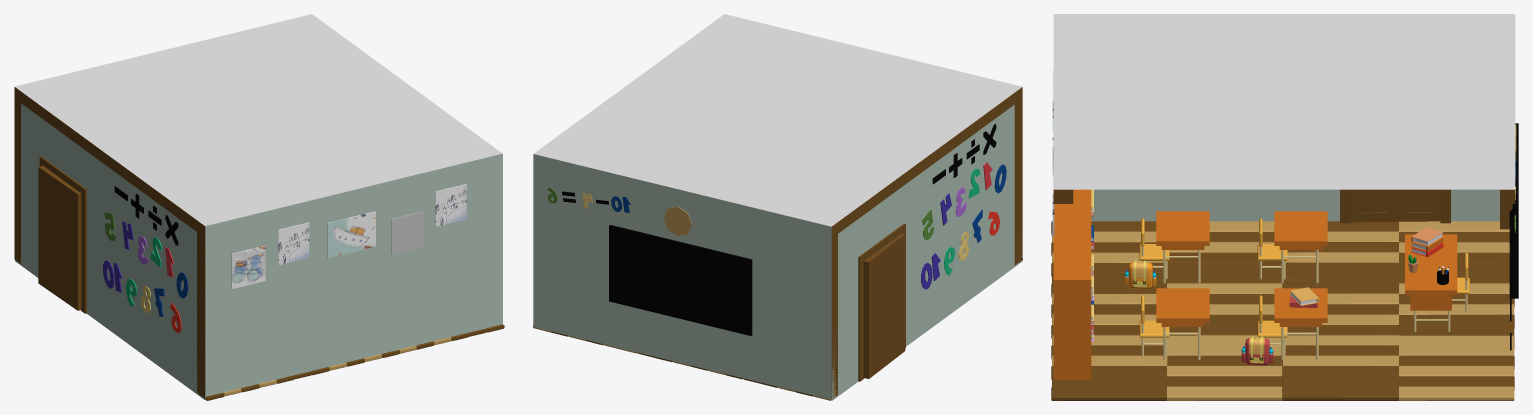
The model's file is Class.fbx.
The picture shows the model from 3 angles, left to right: view 1: azimuth 30°, elevation 25°; view 2: azimuth 150°, elevation 25°; view 3: azimuth 270°, elevation 25°; orthographic projection. The views are drawn at different scales.
Visible parts, largest first — view 1: plafond, wall_03, wall_01, door, ceiling, picture_03, floor, picture_05, picture_02, picture_04, picture_01, door_jamb; view 2: plafond, wall_02, wall_01, blackboard, door, ceiling, door_jamb, hour, floor; view 3: plafond, floor, wall_01, bookcase, table_01, door, table_05, table_02, table_04, table_03, blackboard, ceiling (+7 smaller).
Part boxes in pixels (x1,y1,x2,y2): plafond: (15,14,502,226); wall_03: (205,153,502,398); wall_01: (15,103,205,399); door: (38,165,81,310); ceiling: (14,87,205,398); picture_03: (327,211,375,258); floor: (205,324,504,400); picture_05: (231,245,265,288); picture_02: (391,211,423,254); picture_04: (278,222,309,265); picture_01: (435,184,466,226); door_jamb: (39,156,86,313); plafond: (533,14,1022,226); wall_02: (533,154,831,399); wall_01: (832,105,1022,400); blackboard: (609,225,752,335); door: (863,233,905,378); ceiling: (831,87,1022,399); door_jamb: (858,223,905,381); hour: (663,206,691,236); floor: (533,258,1022,400); plafond: (1053,14,1515,189); floor: (1051,221,1514,400); wall_01: (1091,189,1499,221); bookcase: (1053,189,1091,379); table_01: (1405,234,1457,331); door: (1350,189,1440,222); table_05: (1156,288,1209,359); table_02: (1274,211,1327,283); table_04: (1156,211,1209,283); table_03: (1274,288,1327,359); blackboard: (1509,123,1518,298); ceiling: (1053,189,1515,229).
Bounding box in the file's own units: 2173 × 1187 × 2380.
